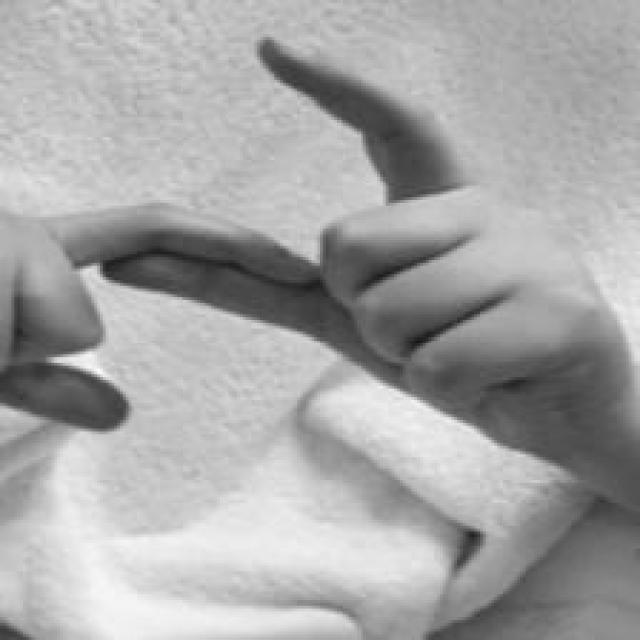S: (1, 35, 640, 461)
